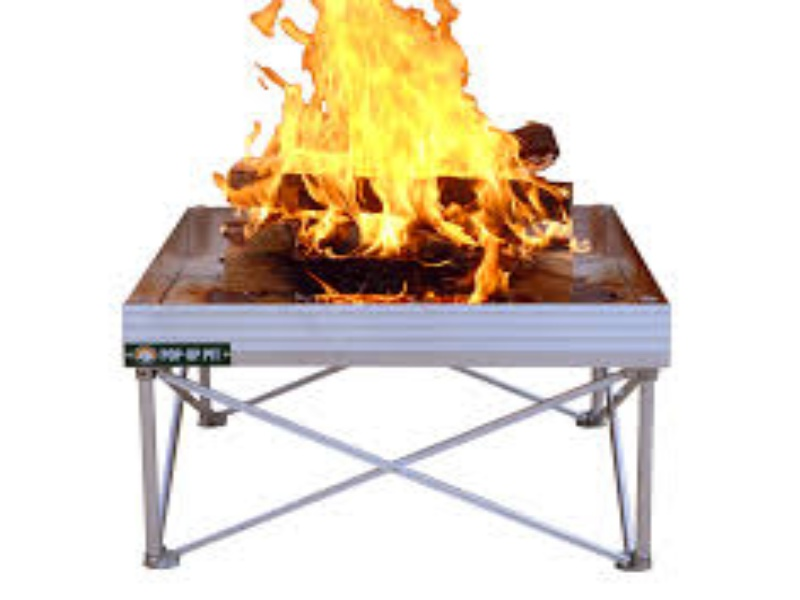fire: (258, 7, 524, 257), (518, 178, 570, 249)
